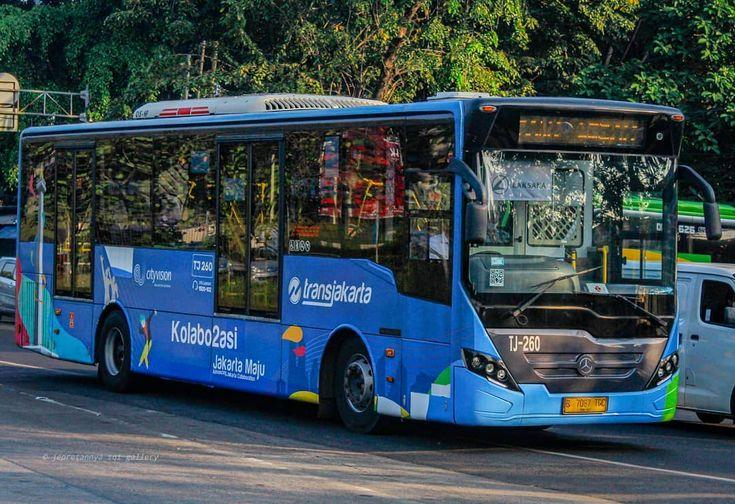transjakarta: (12, 90, 722, 434)
